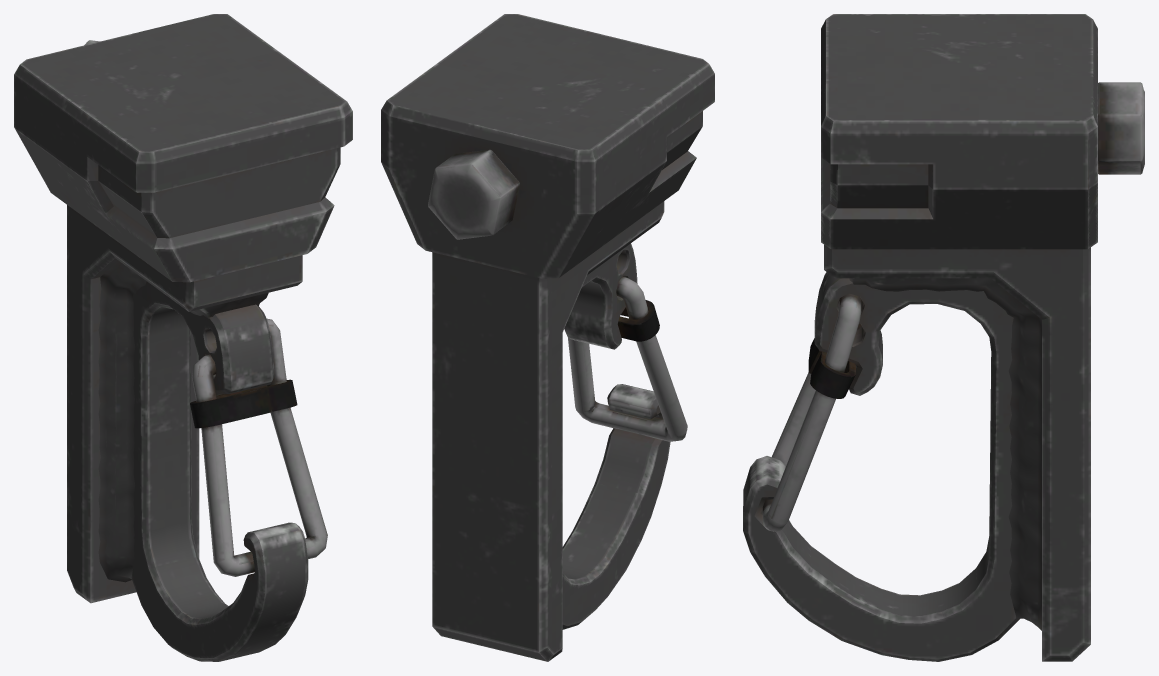
Rendered from Pommel_Hammer_5.glb.
The picture shows the model from 3 angles, left to right: view 1: azimuth 30°, elevation 25°; view 2: azimuth 150°, elevation 25°; view 3: azimuth 270°, elevation 25°; orthographic projection. The views are drawn at different scales.
Visible parts, largest first — view 1: Pommel_Hammer_5_LOD0; view 2: Pommel_Hammer_5_LOD0; view 3: Pommel_Hammer_5_LOD0.
Part boxes in pixels (x1=…): Pommel_Hammer_5_LOD0: x1=14, y1=14, x2=352, y2=661; Pommel_Hammer_5_LOD0: x1=381, y1=14, x2=714, y2=661; Pommel_Hammer_5_LOD0: x1=743, y1=14, x2=1144, y2=661.
Size of the model in its own units: 0.0461 by 0.1124 by 0.0701.
Materials: 1 (1 with a texture image).
